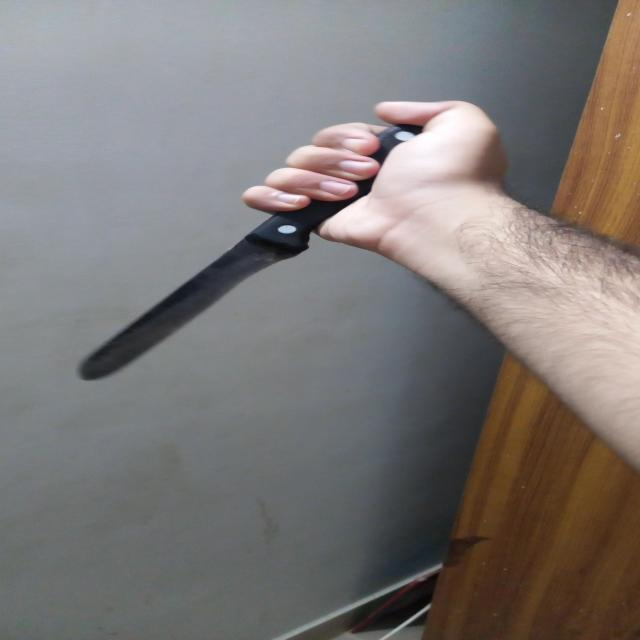weapon: (77, 124, 431, 380)
